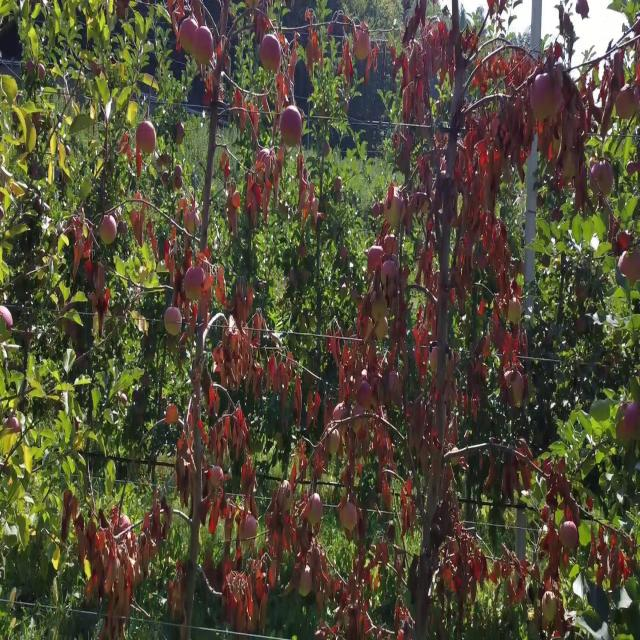apple: (120, 135, 144, 169), (284, 106, 304, 146), (532, 78, 552, 117), (260, 35, 281, 71), (136, 120, 156, 156), (620, 405, 640, 439), (512, 561, 528, 603), (596, 526, 616, 556), (164, 305, 183, 336), (124, 142, 144, 171), (196, 28, 213, 62), (512, 561, 528, 597), (180, 21, 196, 55), (624, 405, 640, 439), (156, 497, 172, 530), (100, 213, 117, 244), (616, 92, 634, 121), (120, 135, 139, 162), (600, 526, 617, 556), (600, 163, 615, 196), (184, 270, 201, 299), (340, 504, 358, 530), (504, 469, 520, 498), (624, 255, 640, 284), (564, 497, 580, 526), (64, 490, 80, 519), (504, 462, 520, 491), (620, 255, 636, 284), (472, 113, 488, 142), (180, 28, 197, 55), (80, 533, 94, 565), (548, 49, 563, 78), (616, 412, 630, 443), (476, 63, 489, 96), (500, 547, 512, 581), (172, 7, 186, 36), (620, 554, 635, 581), (256, 149, 271, 176), (356, 35, 371, 62), (564, 151, 579, 178), (564, 526, 580, 551), (248, 184, 263, 210), (368, 248, 384, 272), (172, 0, 186, 27), (580, 78, 595, 103), (124, 554, 135, 588), (256, 14, 272, 37), (208, 469, 224, 492), (464, 28, 479, 52), (76, 241, 92, 263), (488, 455, 499, 487), (68, 220, 84, 242), (512, 376, 524, 405), (208, 383, 220, 412), (476, 554, 488, 583), (208, 504, 220, 533), (548, 142, 563, 165), (88, 575, 101, 601), (556, 476, 571, 498), (200, 497, 212, 524), (85, 519, 99, 542), (196, 248, 212, 268), (300, 184, 316, 204), (624, 540, 635, 569), (312, 497, 324, 523), (192, 1, 205, 25), (512, 298, 524, 324), (540, 127, 551, 155), (384, 236, 399, 256), (328, 334, 341, 357), (300, 497, 311, 524), (488, 561, 500, 585), (512, 99, 524, 123), (492, 56, 503, 82), (216, 362, 227, 388), (152, 519, 164, 542), (140, 540, 151, 565), (272, 163, 283, 188), (228, 191, 241, 212), (276, 78, 291, 96), (96, 533, 111, 551), (168, 405, 180, 427), (420, 156, 431, 180), (180, 433, 191, 457), (96, 263, 107, 286), (576, 191, 588, 212), (548, 526, 559, 548), (548, 142, 559, 164), (216, 362, 227, 384), (620, 234, 632, 254), (100, 291, 112, 311), (344, 56, 354, 80), (344, 469, 356, 489), (396, 56, 410, 73), (4, 305, 13, 331), (524, 462, 532, 491), (68, 319, 79, 340), (392, 199, 403, 219), (552, 547, 563, 567), (148, 540, 159, 560), (420, 156, 431, 176), (384, 263, 396, 281), (272, 149, 284, 167), (8, 419, 22, 434), (520, 440, 531, 459), (596, 568, 606, 588), (416, 7, 427, 25), (492, 113, 501, 135), (416, 327, 427, 345), (616, 49, 625, 69), (628, 163, 640, 178), (76, 519, 85, 539), (276, 149, 285, 169), (176, 170, 184, 192), (144, 511, 152, 533), (520, 440, 529, 459), (116, 7, 128, 21), (84, 263, 94, 279), (404, 213, 412, 233), (472, 398, 480, 418), (372, 206, 383, 220), (420, 199, 431, 213), (404, 135, 415, 149), (412, 191, 419, 213), (544, 462, 553, 478), (593, 163, 601, 181), (616, 71, 625, 87), (420, 78, 428, 96), (556, 462, 567, 475), (580, 7, 590, 21), (400, 270, 410, 284), (576, 319, 585, 334), (576, 284, 585, 299), (480, 255, 489, 270), (512, 455, 521, 469), (176, 127, 184, 142), (388, 184, 396, 199), (28, 63, 36, 78), (188, 248, 194, 268), (372, 42, 380, 57), (548, 490, 555, 507), (484, 341, 491, 357), (636, 85, 640, 112), (76, 348, 84, 361), (300, 248, 308, 258), (396, 135, 402, 148), (588, 497, 593, 512), (40, 63, 45, 78), (544, 511, 550, 523), (268, 177, 272, 194), (384, 220, 389, 233)
